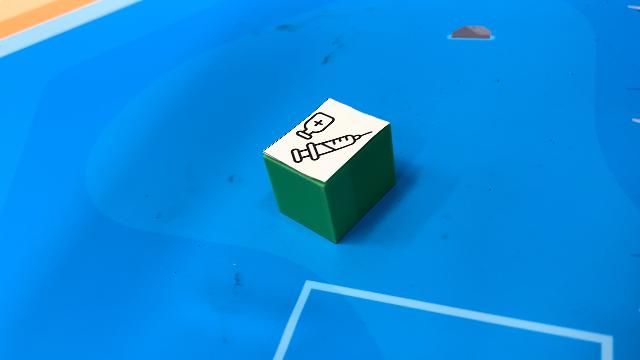syringe: (262, 97, 396, 243)
